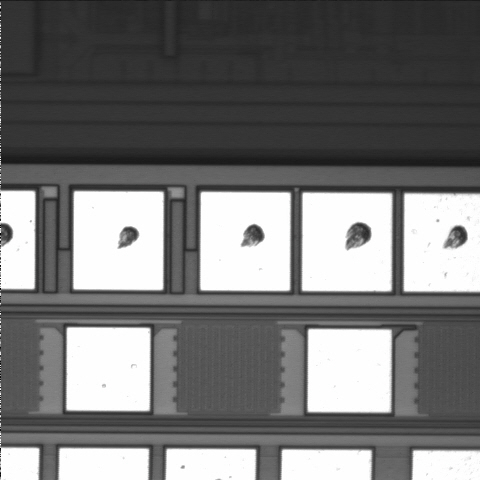pad: (73, 191, 164, 290), (200, 192, 290, 291), (302, 193, 392, 291), (67, 328, 150, 411), (308, 329, 391, 412)
